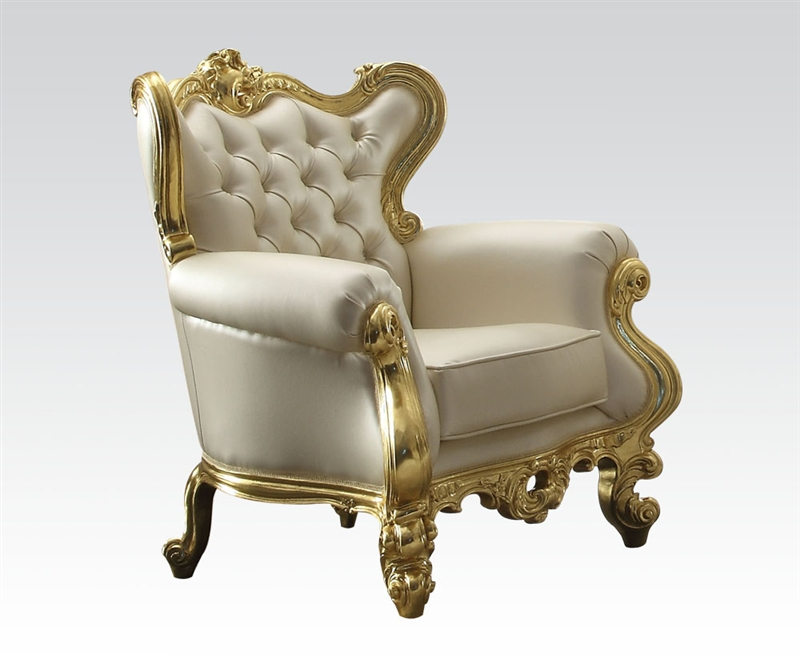chairs: (121, 43, 684, 626)
